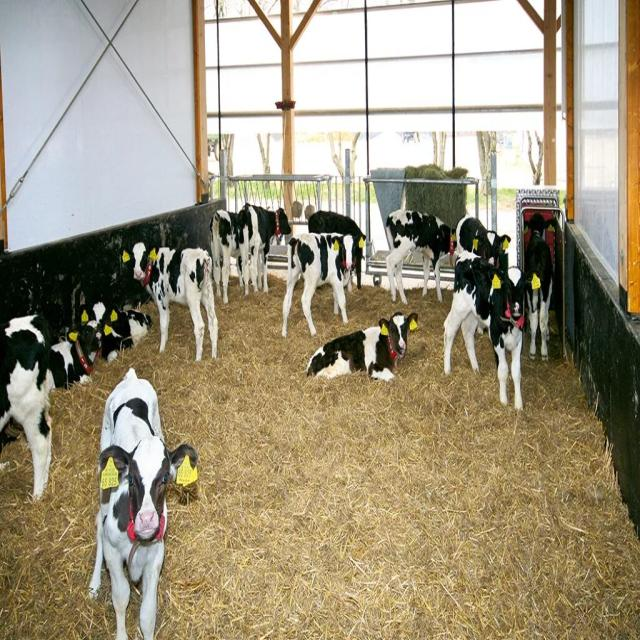cow: (88, 366, 198, 638), (121, 240, 218, 362), (0, 312, 55, 501), (305, 310, 419, 382), (280, 231, 354, 338), (384, 208, 455, 304), (486, 262, 526, 411), (236, 202, 291, 296), (306, 208, 367, 292), (522, 212, 554, 362), (86, 300, 152, 362), (47, 319, 102, 389), (209, 208, 245, 304), (454, 214, 511, 268)
